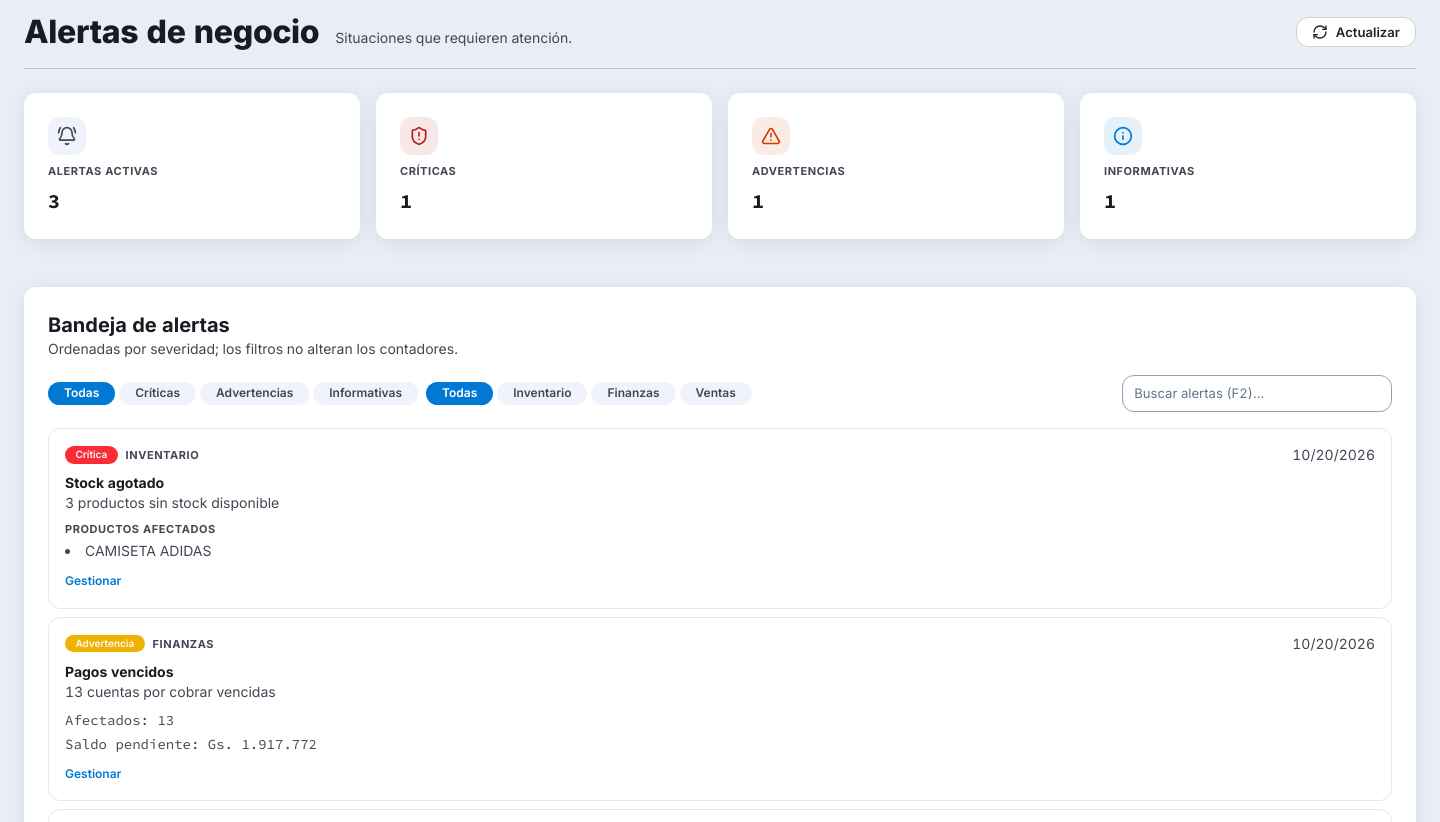
AlertsPage (F2) › filtra por severidad sin perder los contadores
The width and height of the screenshot is (1440, 822).
Check: the heading "Stock agotado" is shown, box [65,474,164,491]
Click the button "Críticas" at (158, 393), box [119,382,196,405]
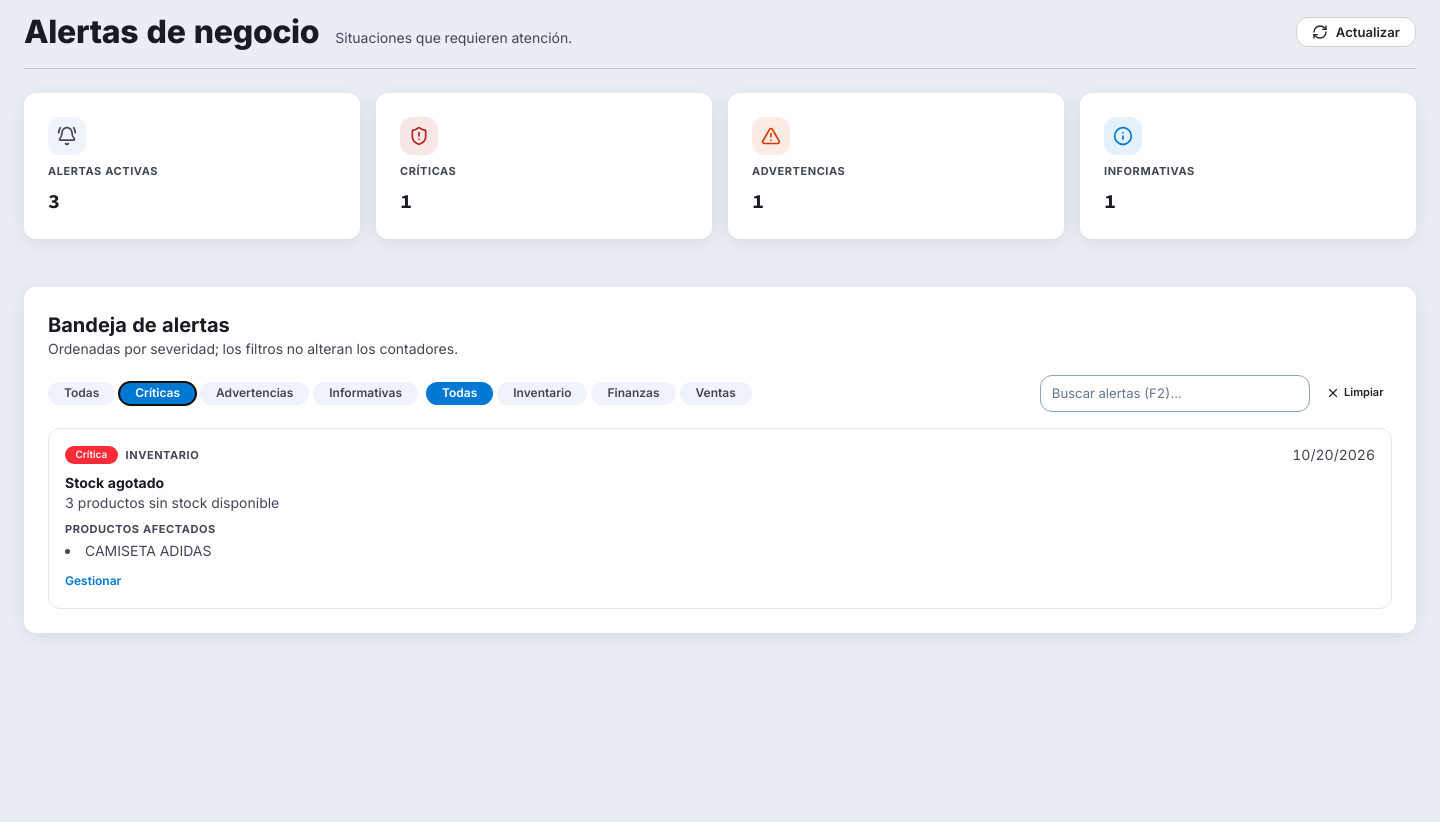
Check: the heading "Stock agotado" is shown, box [65,474,164,491]
Check: the heading "Pagos vencidos" is gone
